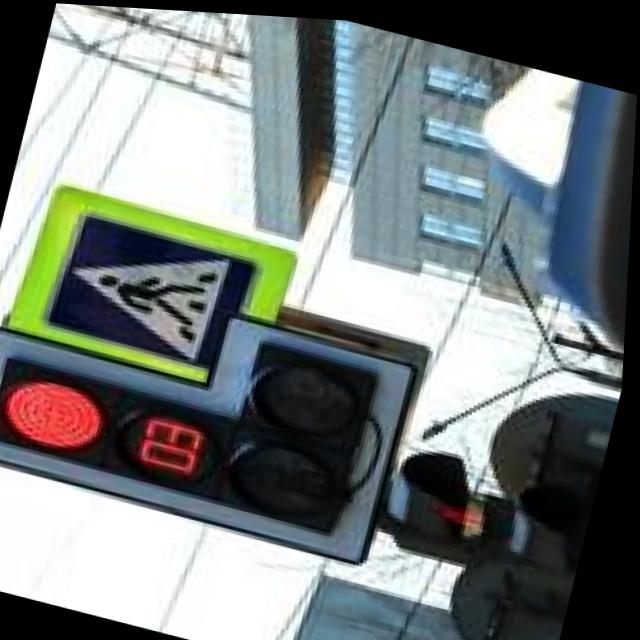red_light: (0, 300, 152, 497)
